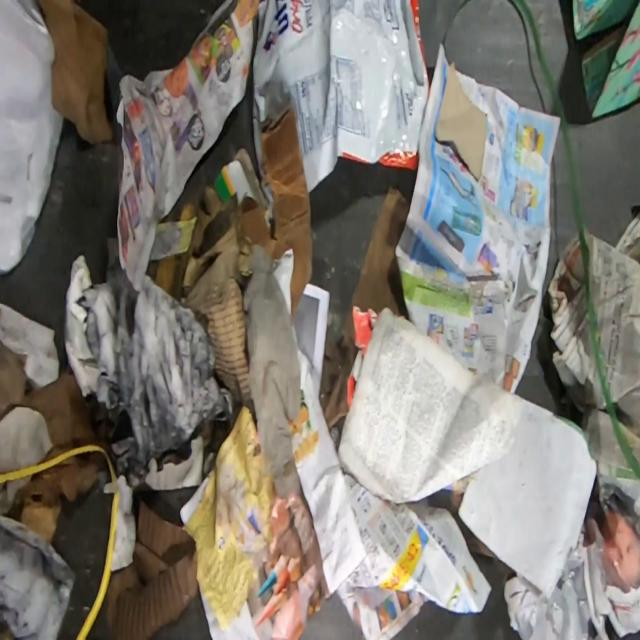cardboard: (146, 103, 311, 405), (106, 500, 199, 638), (573, 1, 640, 119), (435, 61, 488, 185), (10, 490, 63, 546)
soft_plastic: (252, 0, 430, 193), (0, 1, 63, 272)
